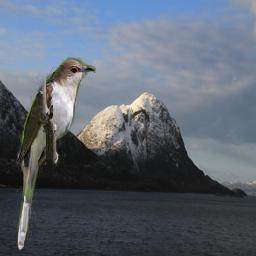Cuckoo: (16, 57, 96, 251)
